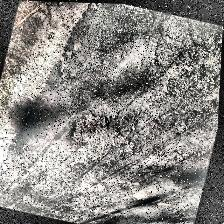pothole: (64, 100, 150, 162)
